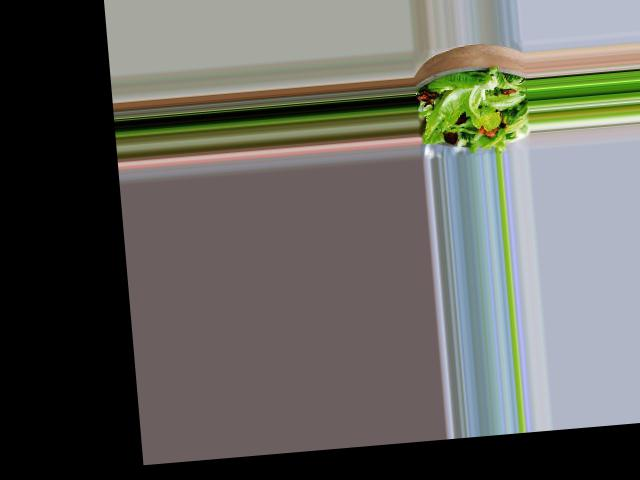lettuce: (424, 66, 525, 152)
